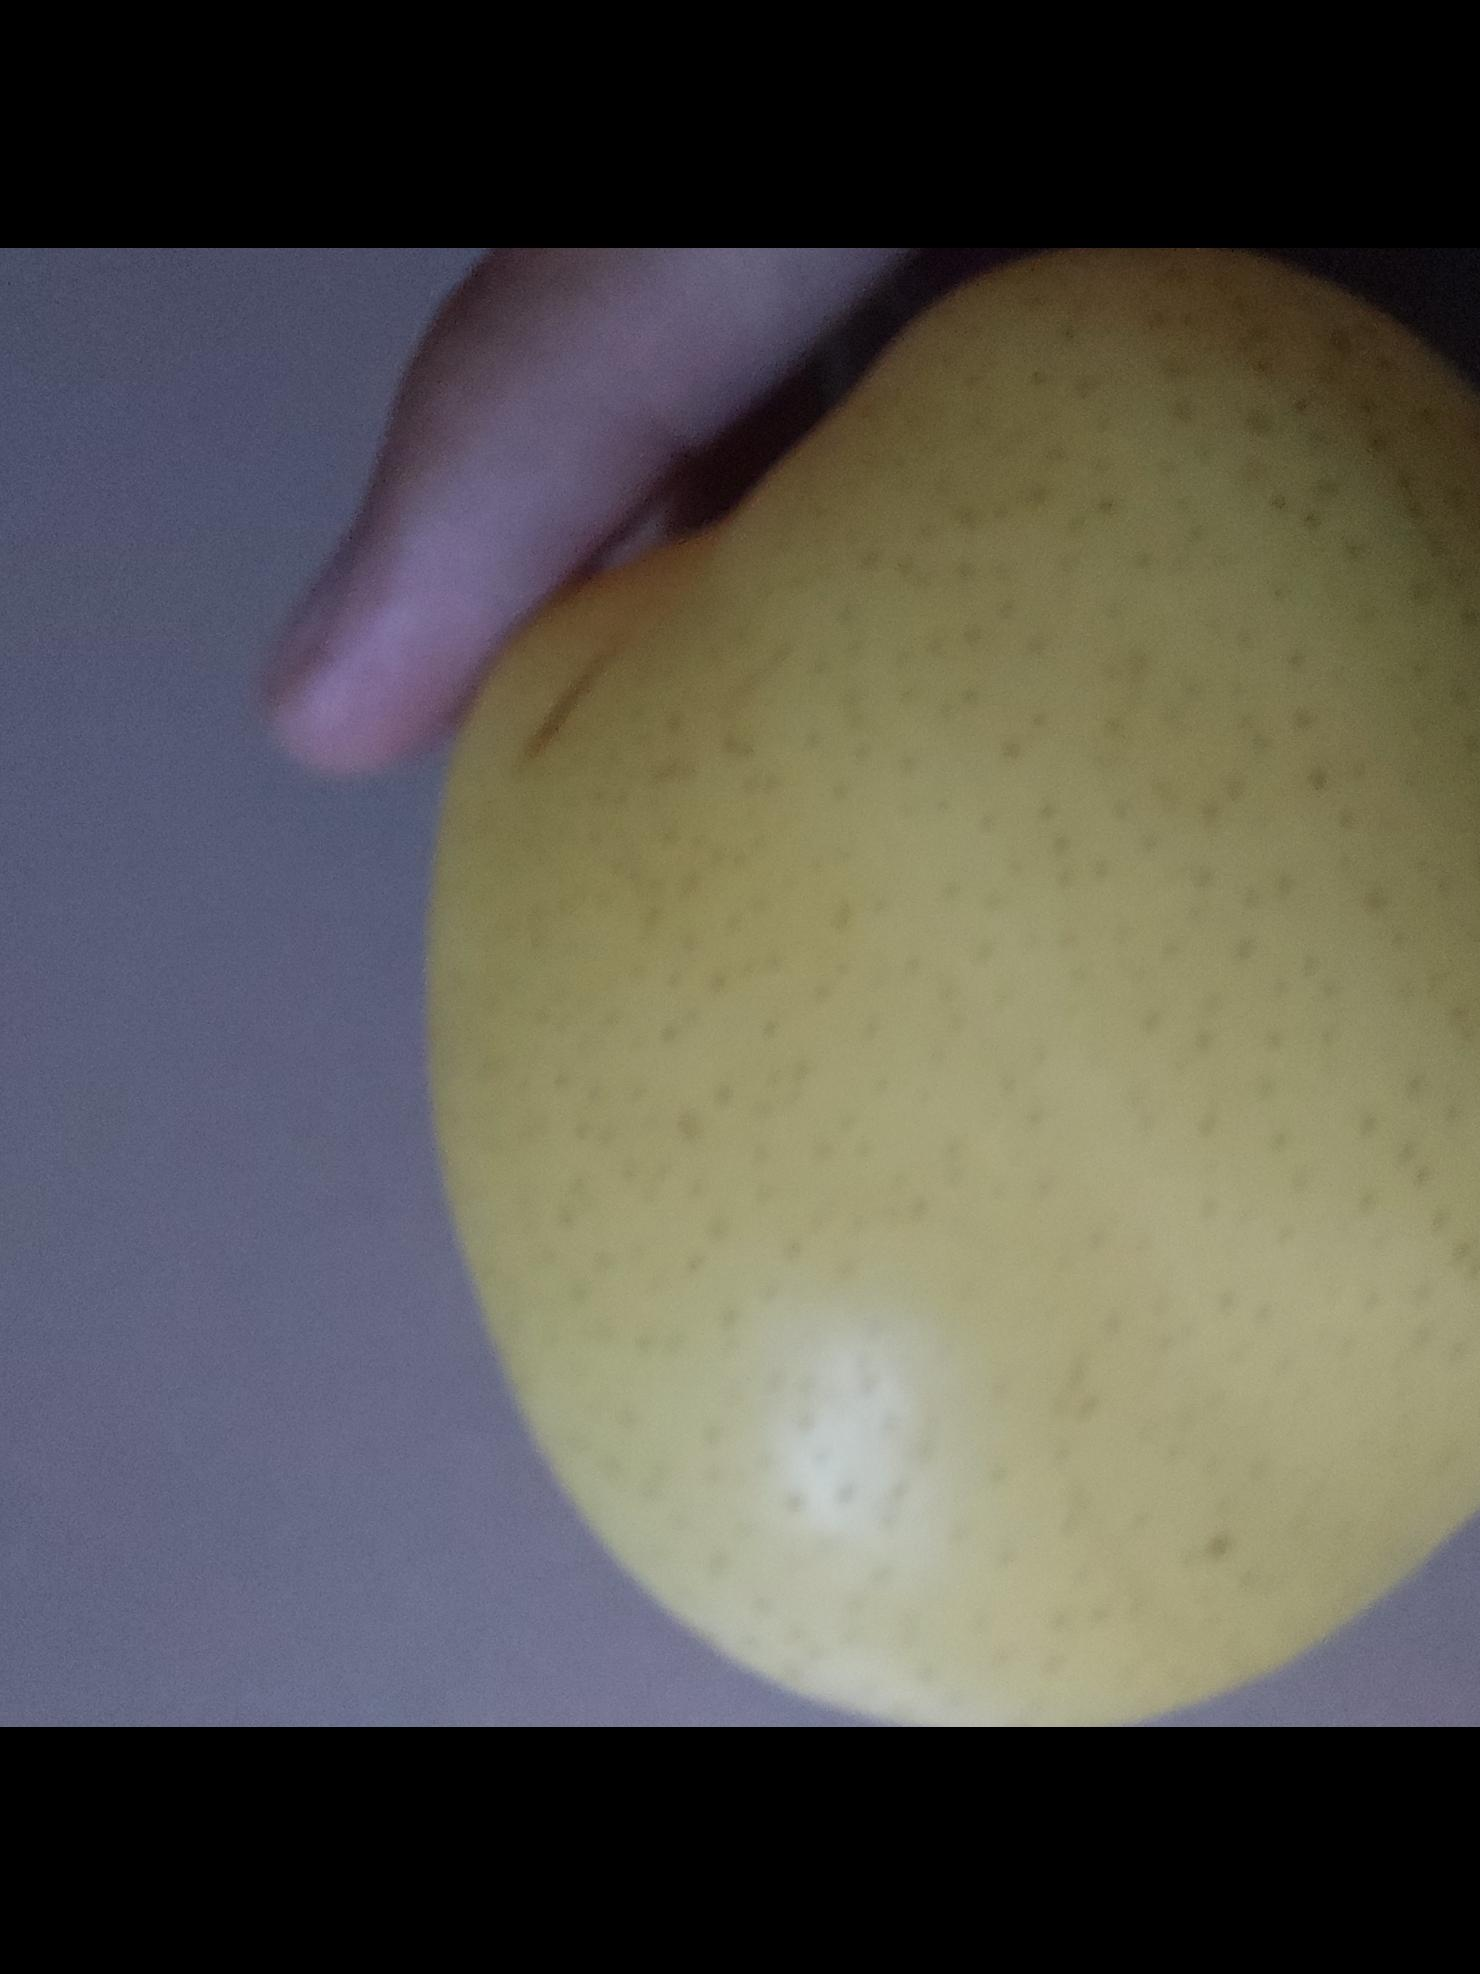Good Pear: (427, 667, 1480, 1727)
